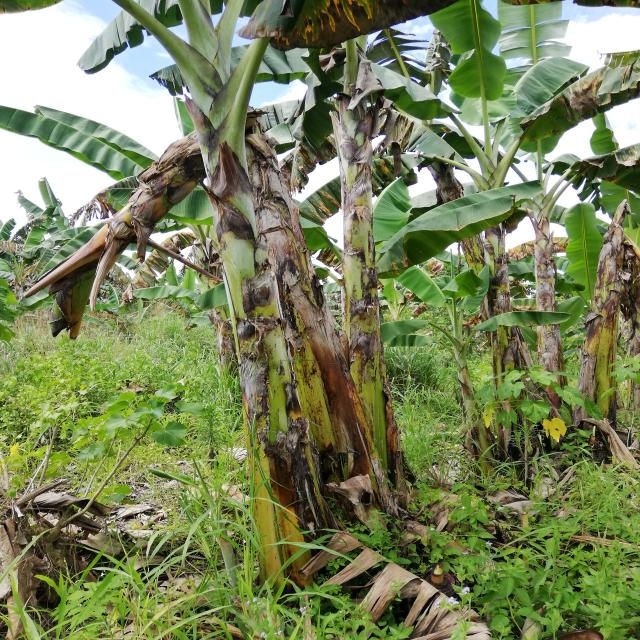Banana-plant: (160, 22, 315, 595), (326, 90, 399, 526), (465, 156, 523, 493), (523, 149, 573, 465)
